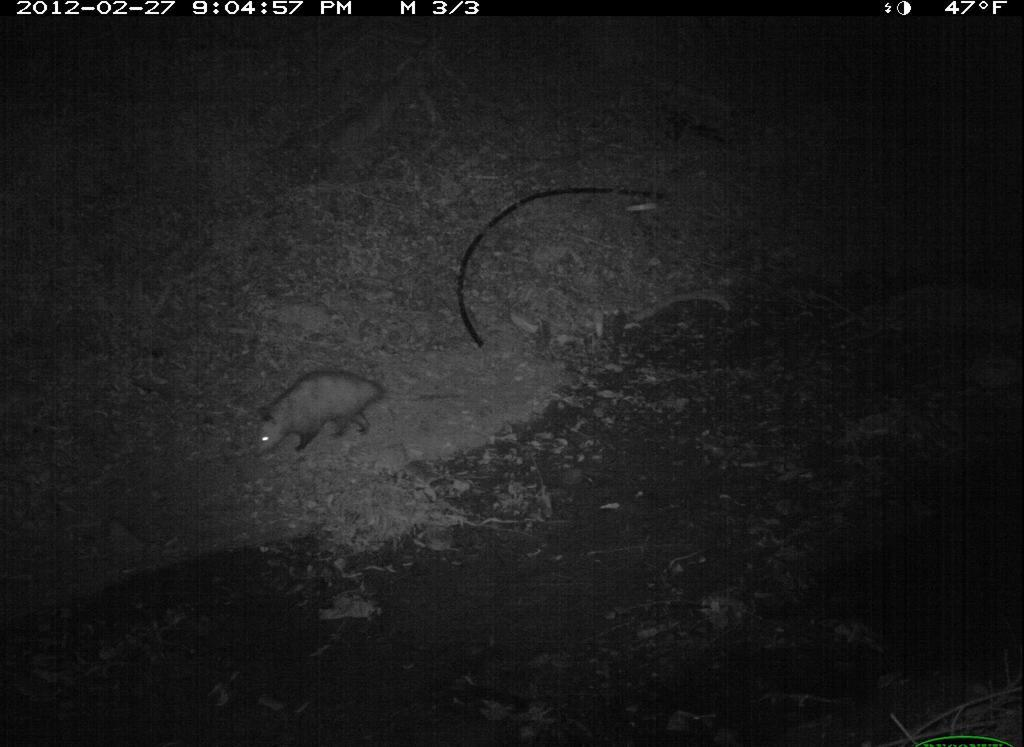opossum: (246, 364, 410, 463)
